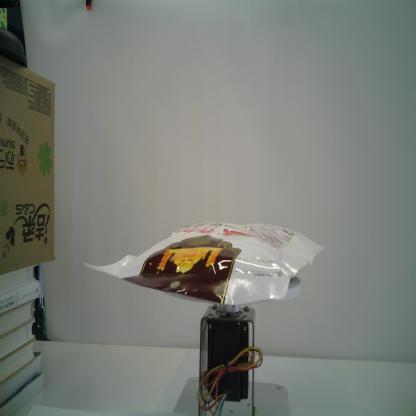Dried Food: (80, 218, 328, 309)
